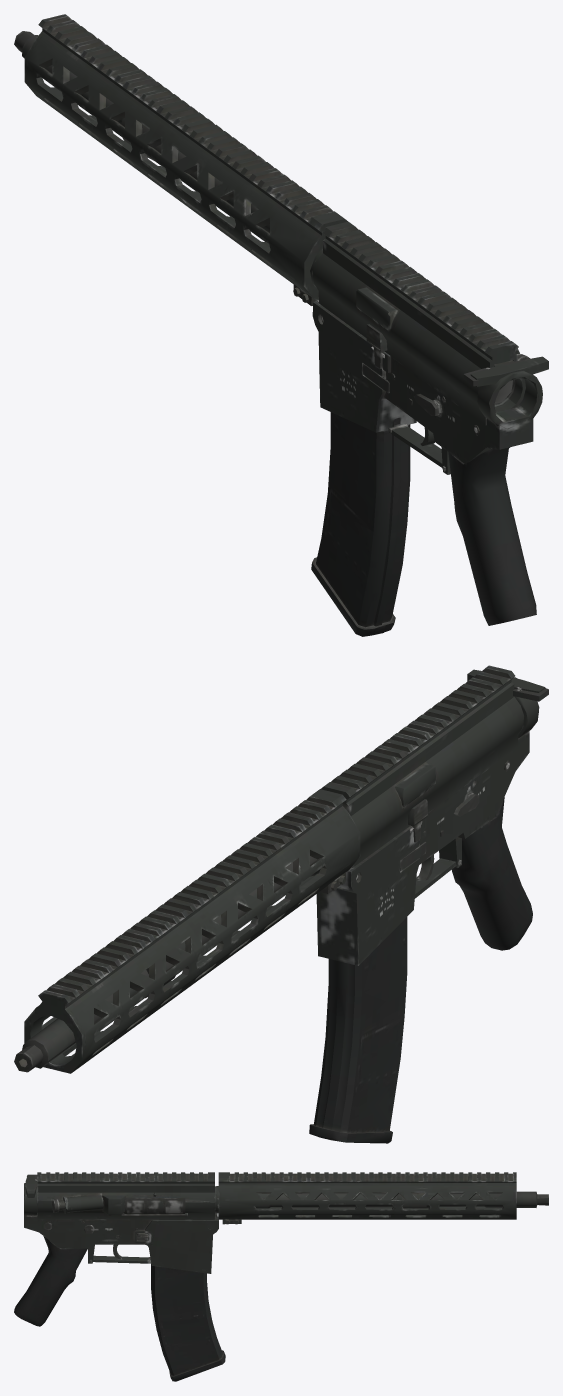
Rendered from fuzil_556_leve.glb.
3 views of the same model, one above another, from view 1: azimuth 30°, elevation 25°; view 2: azimuth 150°, elevation 25°; view 3: azimuth 270°, elevation 25° (orthographic). The views are drawn at different scales.
Visible parts, largest first — view 1: fuzil_556_leve; view 2: fuzil_556_leve; view 3: fuzil_556_leve.
Part boxes in pixels (x1,y1,x2,y2): fuzil_556_leve: [14, 14, 548, 636]; fuzil_556_leve: [14, 665, 548, 1143]; fuzil_556_leve: [14, 1172, 548, 1381].
Bounding box in the file's own units: 0.058 × 0.2496 × 0.596.
Materials: 1 (1 with a texture image).
